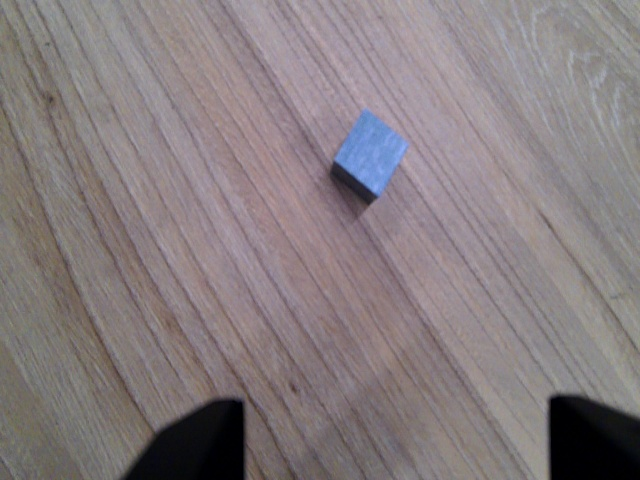stone: (326, 102, 413, 209)
